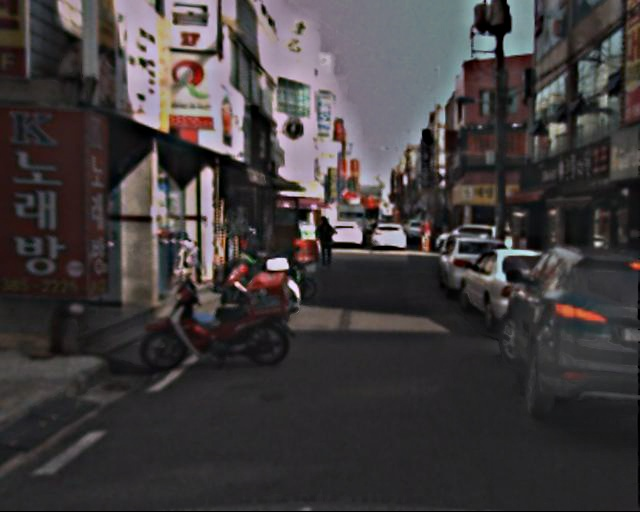person: (319, 217, 342, 272), (422, 221, 443, 255)
